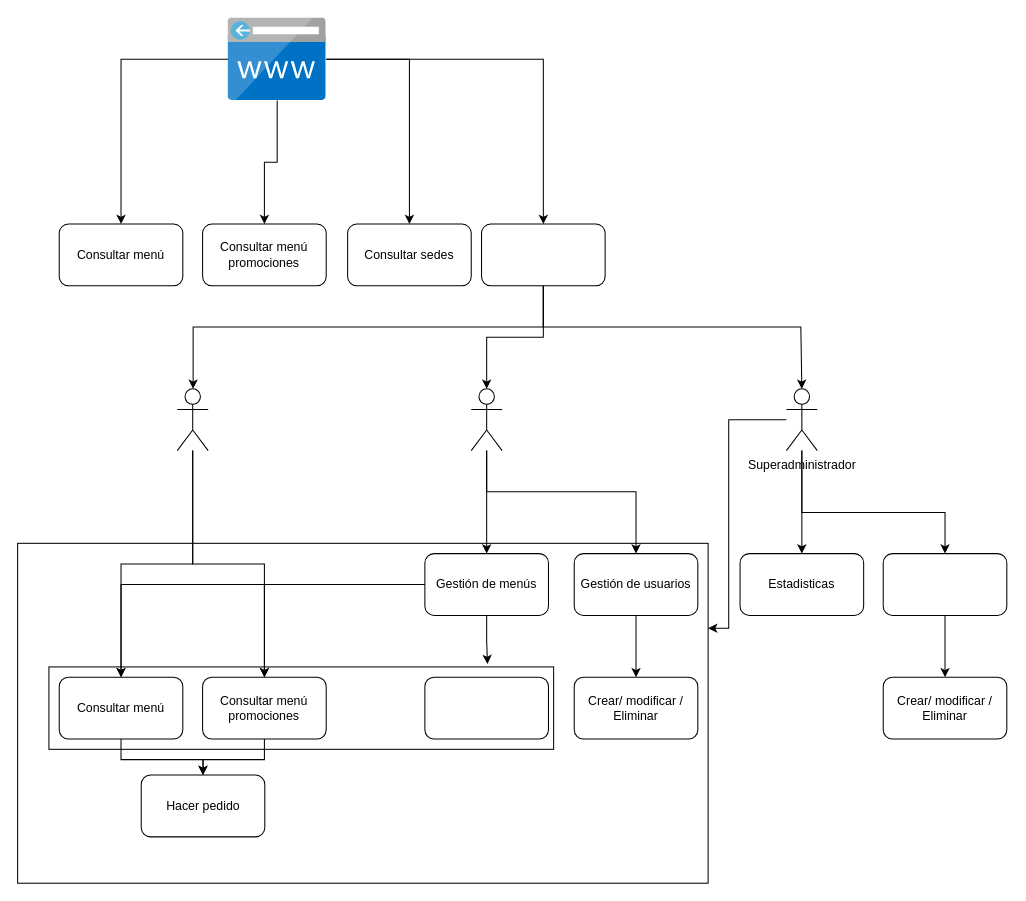
The diagram is 1026 pixels wide and 901 high, and some of its shapes have lost their labels. The centre of each missing label's shape, as x and y in pixels:
"Administrador" belongs at (x=486, y=419).
"Crear/ modificar" belongs at (x=486, y=707).
"Home" belongs at (x=277, y=59).
"Login" belongs at (x=542, y=254).
"Sedes" belongs at (x=944, y=584).
"Usuario" belongs at (x=192, y=419).
